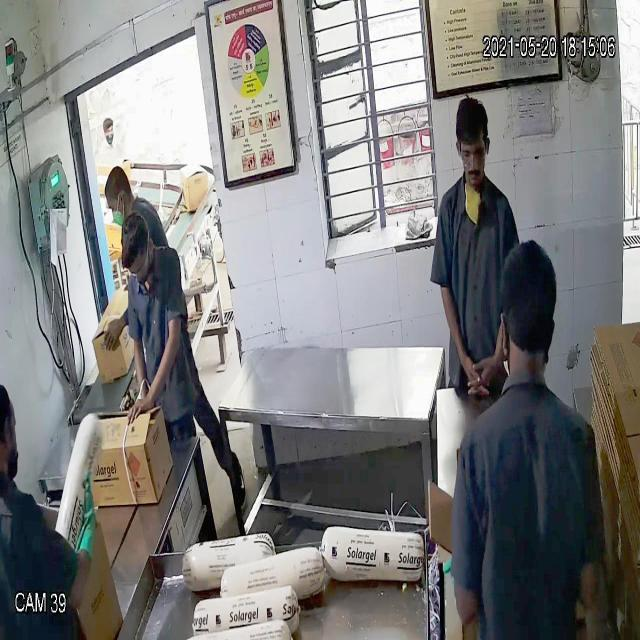glasses: (456, 140, 488, 166)
